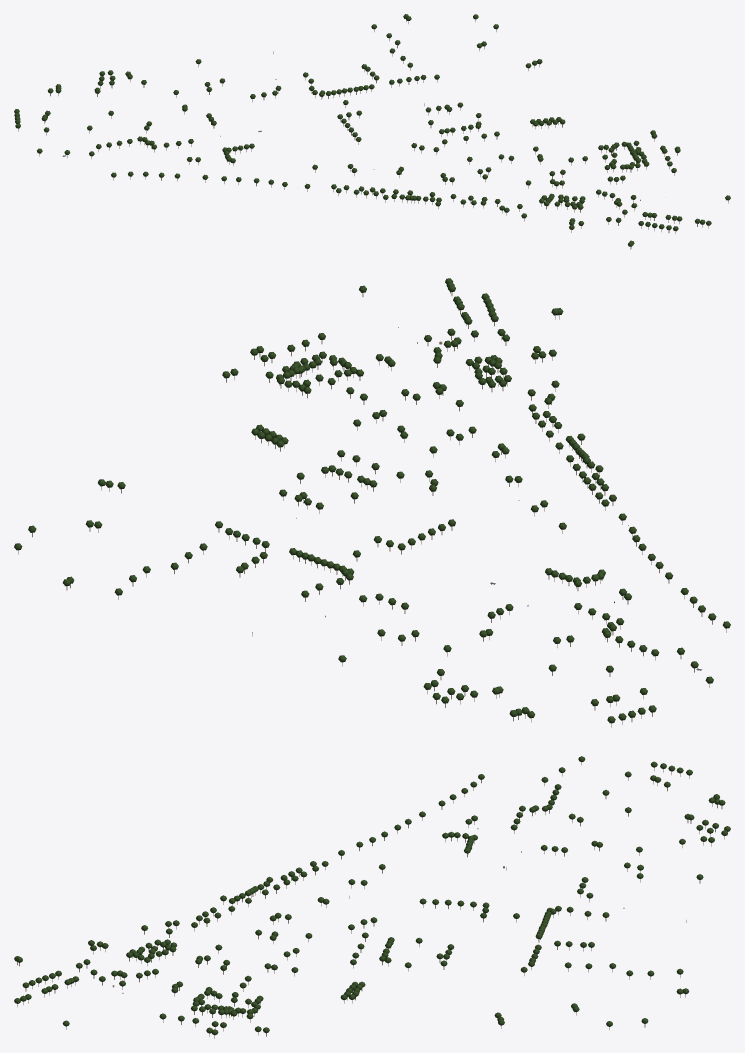
The model's file is props.glb.
3 renders of one model, top to bottom at view 1: azimuth 30°, elevation 25°; view 2: azimuth 150°, elevation 25°; view 3: azimuth 270°, elevation 25°, orthographic. The views are drawn at different scales.
Visible parts, largest first — view 1: T_W2_N7_props; view 2: T_W2_N7_props; view 3: T_W2_N7_props.
Boxes of the visible parts, <box> form: T_W2_N7_props: <box>14,14,730,249</box>; T_W2_N7_props: <box>14,278,730,727</box>; T_W2_N7_props: <box>14,756,730,1038</box>.
Bounding box in the file's own units: 456 × 10.19 × 501.
